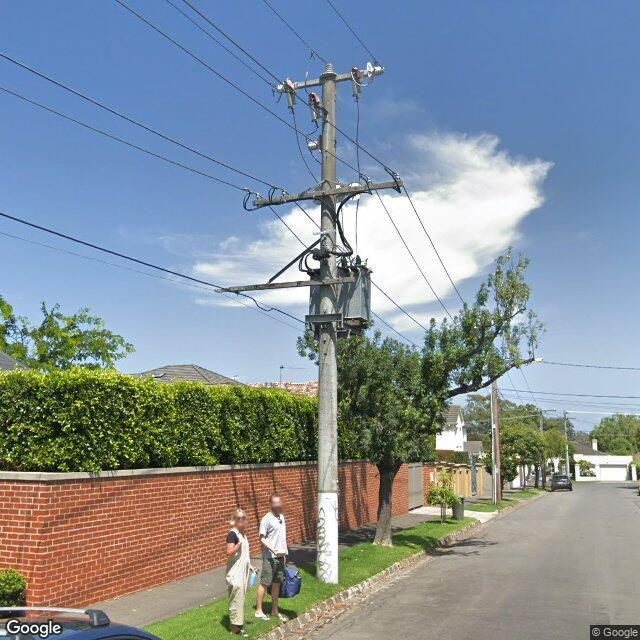HV-transmission: (276, 60, 384, 151)
crossarm: (252, 180, 404, 207), (228, 276, 356, 293), (526, 409, 556, 412), (562, 418, 576, 420)
timber-pole: (317, 72, 338, 586), (491, 379, 502, 504), (540, 409, 546, 489), (564, 411, 570, 479)
transformer: (308, 256, 374, 328)
